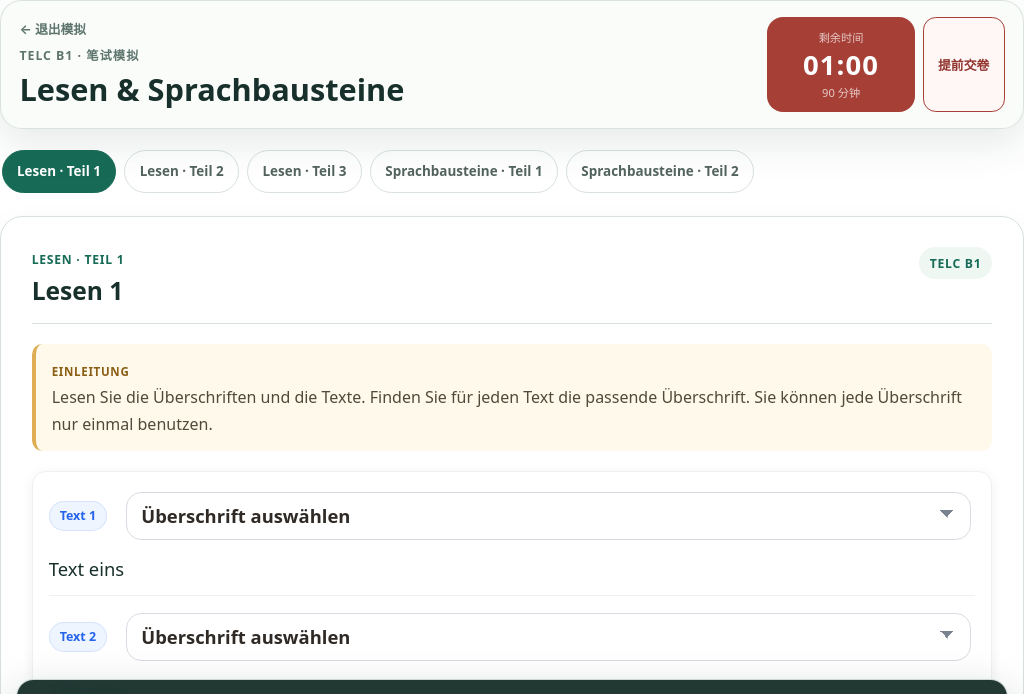
it: mock exam exercise layout › continues question numbers across all reading and Sprachbausteine parts
Check: the text "Text 1" is shown, box x1=49 y1=500 x2=107 y2=531
Check: the text "Text 2" is shown, box x1=49 y1=622 x2=107 y2=652
Click the button "Lesen · Teil 2".
click(182, 171)  # box x1=124 y1=150 x2=239 y2=193
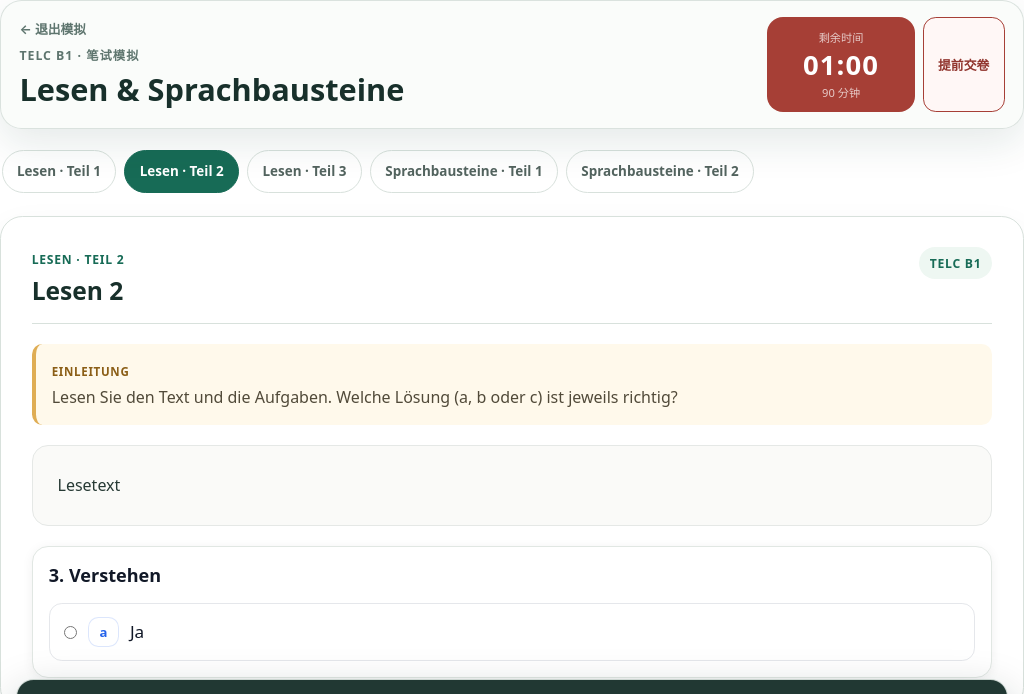
Check: the heading "3. Verstehen" is shown, box x1=49 y1=563 x2=161 y2=587
Click the button "Lesen · Teil 3".
click(304, 171)  # box x1=247 y1=150 x2=362 y2=193
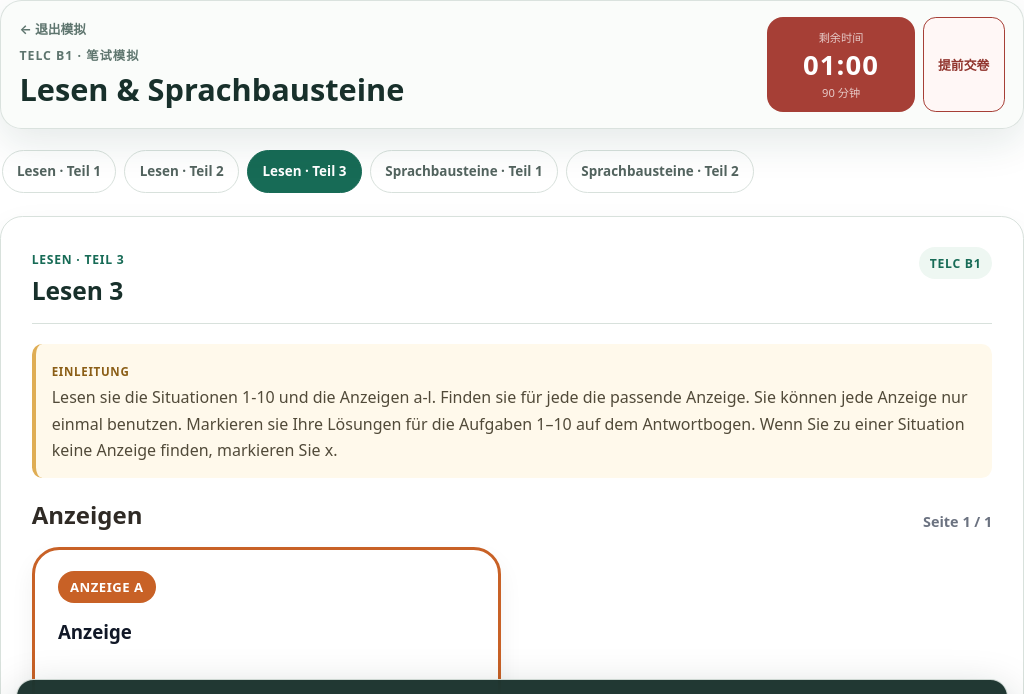
Click the button "Sprachbausteine · Teil 1".
click(464, 171)  # box x1=370 y1=150 x2=558 y2=193
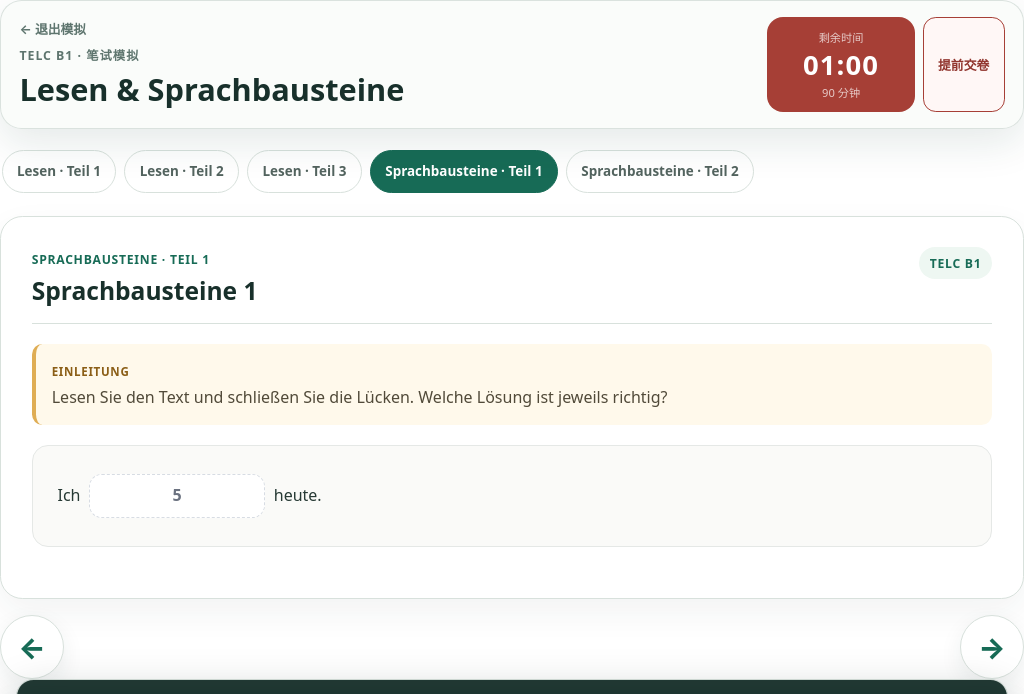
Check: the button "5" is shown, box x1=89 y1=474 x2=265 y2=518
Click the button "Sprachbausteine · Teil 2".
click(660, 171)  # box x1=566 y1=150 x2=754 y2=193
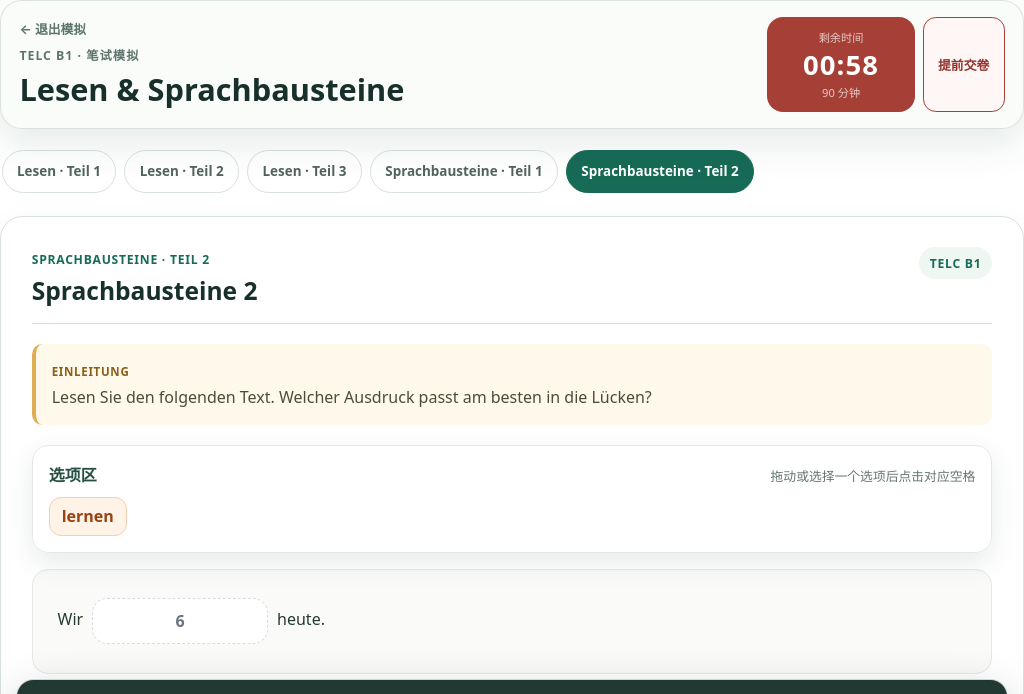
Check: the text "6" is shown, box x1=176 y1=606 x2=185 y2=636
